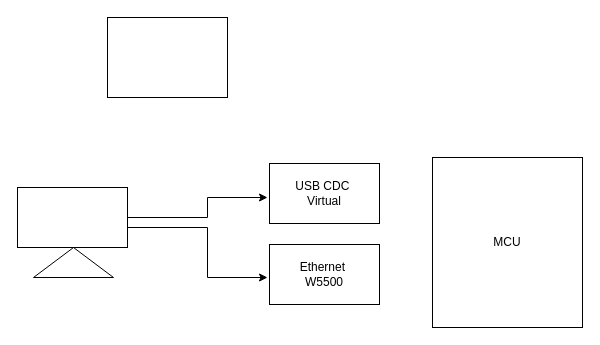
The diagram is 600 pixels wide and 345 high, and some of its shapes have lost their labels. The centre of each missing label's shape, as x and y in pixels:
AC to DC Power Convertor: the point at 167,57
PC: the point at 72,217
